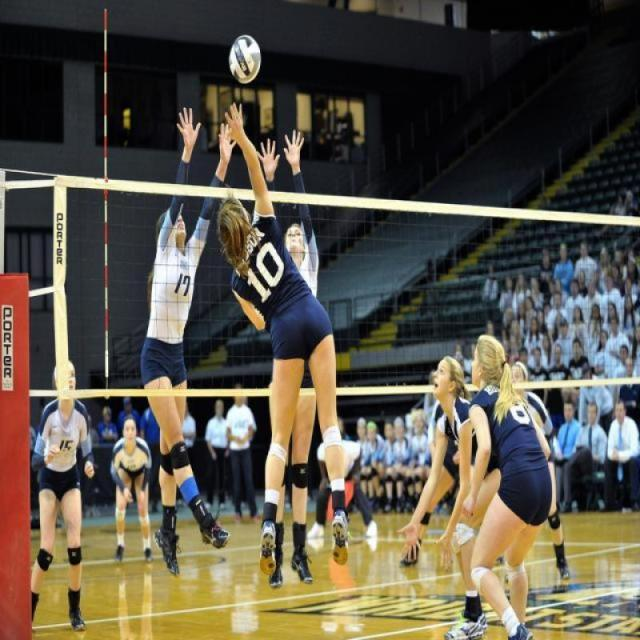volleyball: (226, 31, 262, 86)
